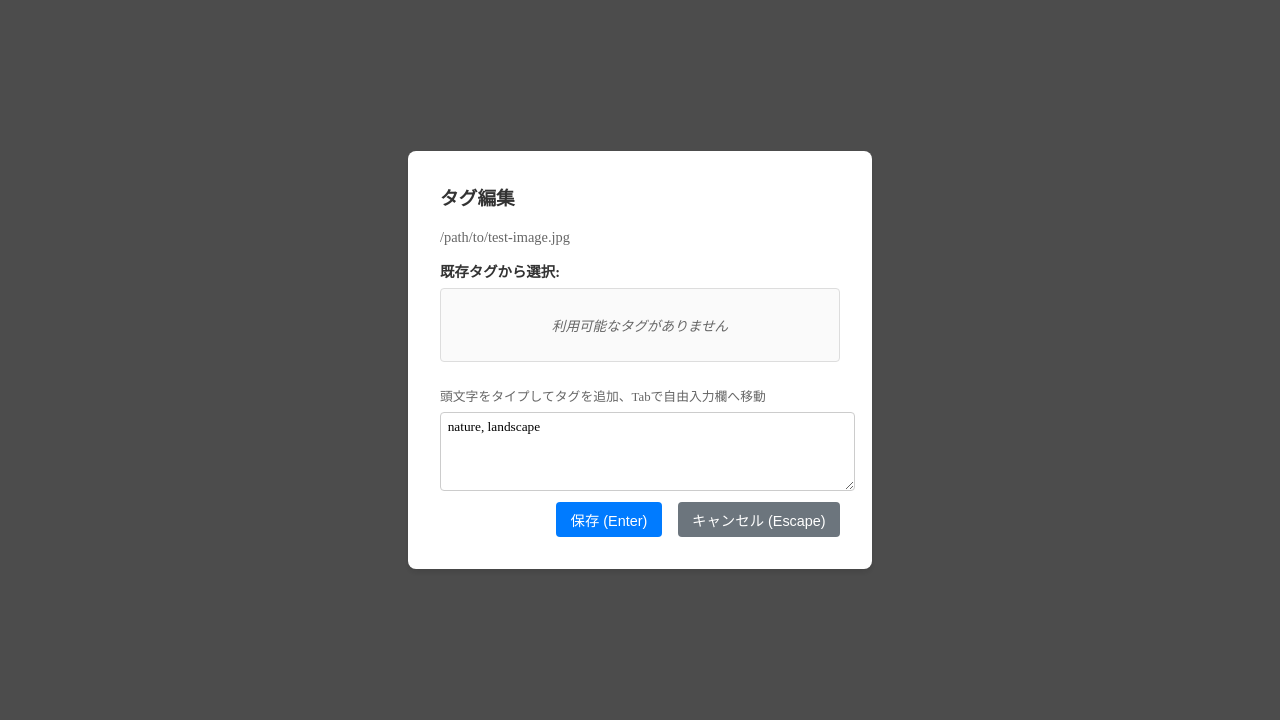
Test: TagEditor › input mode switching › should switch to free input mode when textarea is clicked
The image size is (1280, 720).
What coordinates should you click on to do the following:
click the text box
I would click on:
 (648, 451)
Its box is [440,412,855,491].
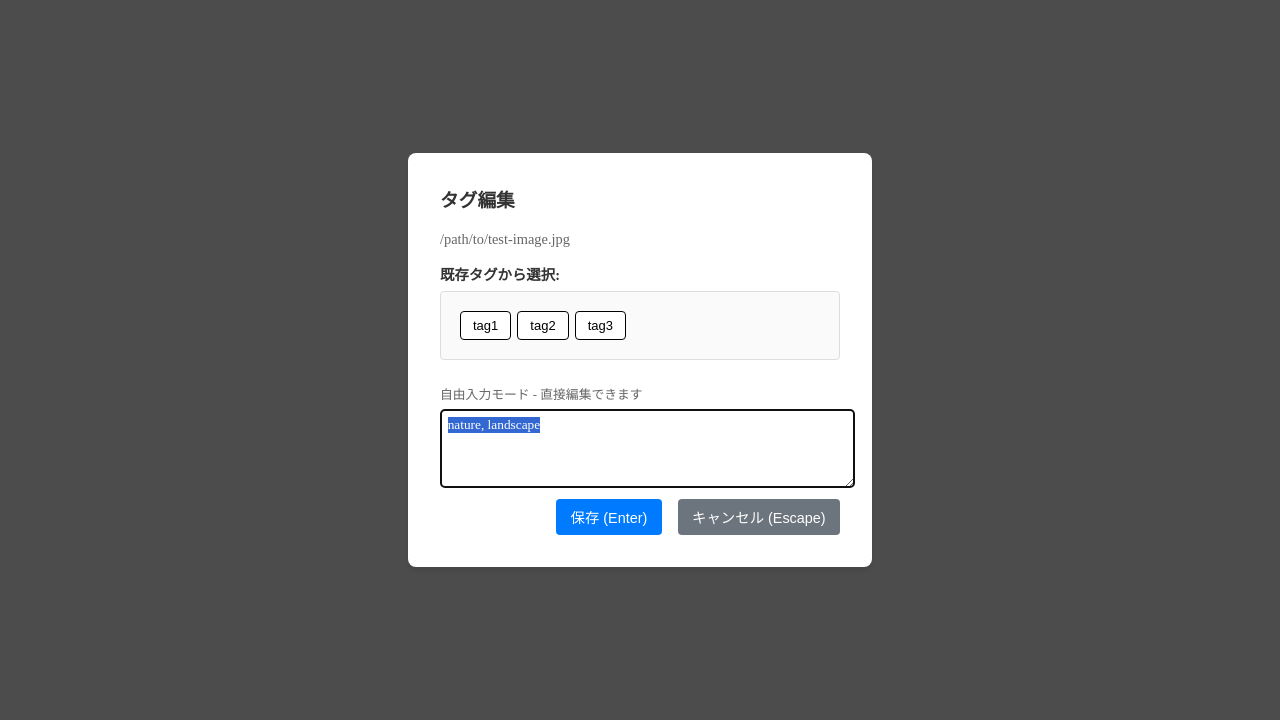
Expected: the text "自由入力モード - 直接編集できます" is shown, [440,388,643,402]
